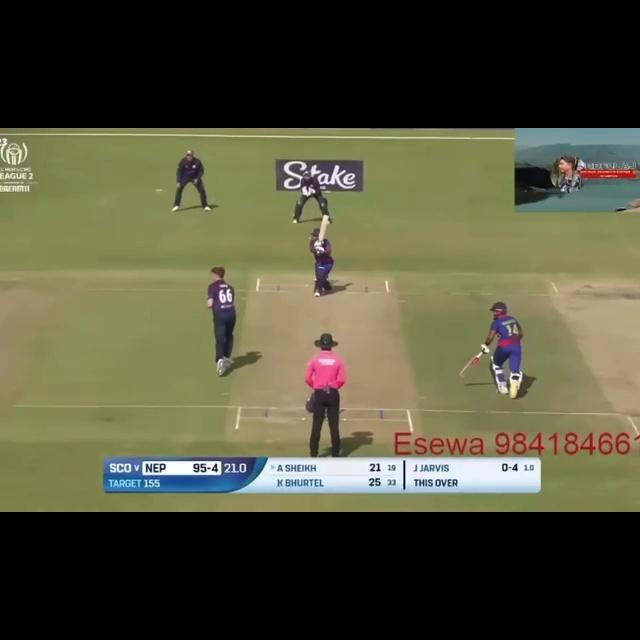umpire: (296, 331, 349, 457)
